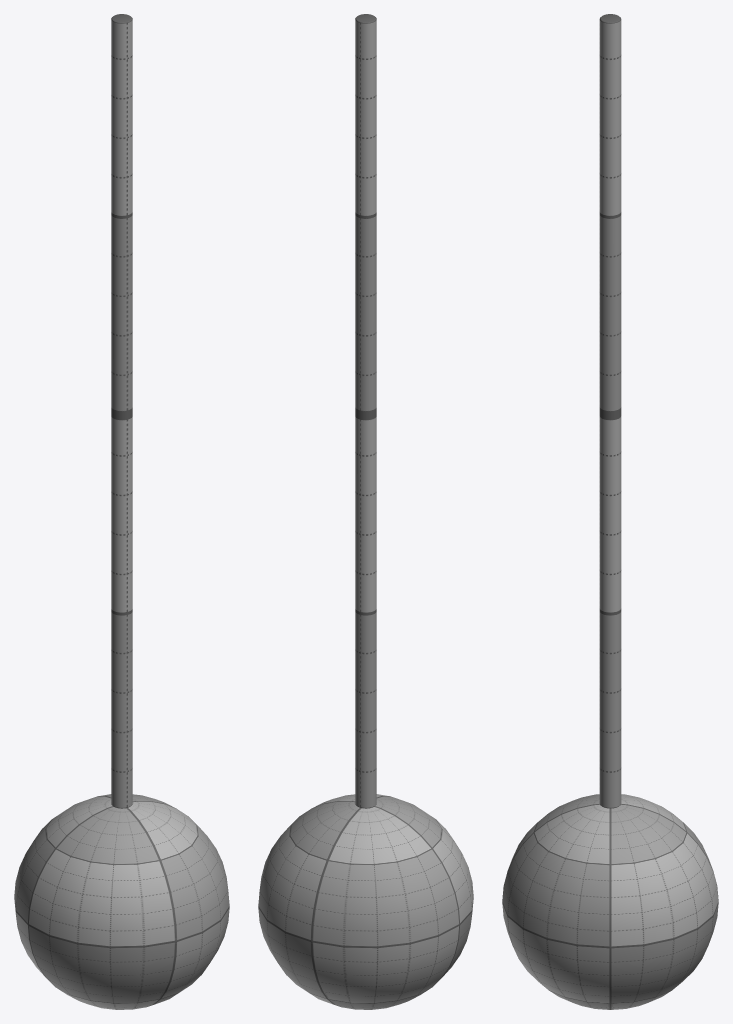
The model's file is Pendilum0x2x0Ball.fbx.
3 views of the same model, side by side, from view 1: azimuth 30°, elevation 25°; view 2: azimuth 150°, elevation 25°; view 3: azimuth 270°, elevation 25° (orthographic).
Visible parts, largest first — view 1: Pendilum0x2x0Ball; view 2: Pendilum0x2x0Ball; view 3: Pendilum0x2x0Ball.
Boxes of the visible parts, x1,y1,x2,y2 form: Pendilum0x2x0Ball: (14,14,229,1009); Pendilum0x2x0Ball: (258,14,473,1009); Pendilum0x2x0Ball: (502,14,718,1009).
Size of the model in its own units: 49.94 by 250 by 49.94.
